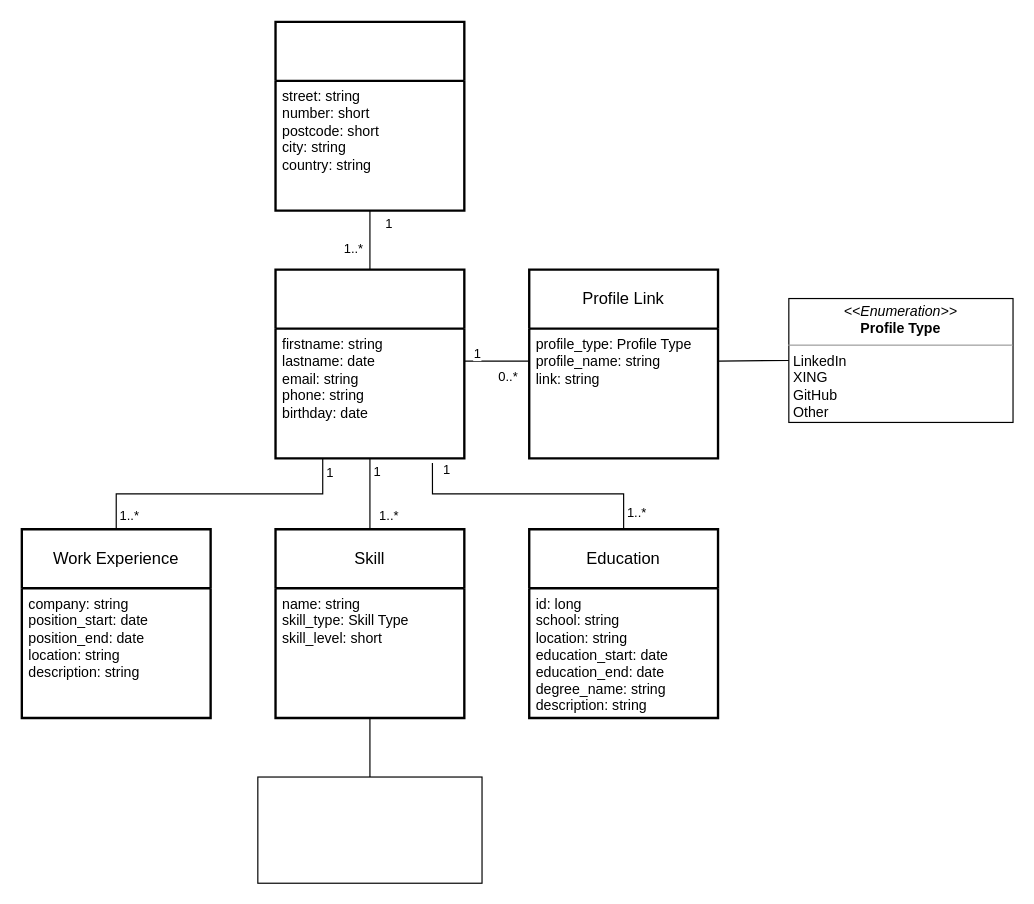
Image size: 1034x904. Some labels were removed from this diagram. Each missing label, with the box of its shape:
<<Enumeration>> Skill Type Programming Language Language Tool: (257, 776, 482, 883)
Address: (274, 20, 465, 211)
Applicant: (274, 268, 465, 459)
